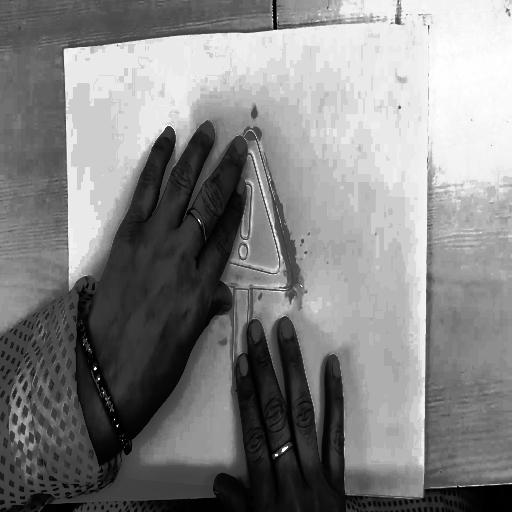bottom_left: (66, 465, 75, 479)
bottom_right: (420, 491, 426, 499)
signboard: (183, 110, 309, 417)
top_left: (61, 43, 69, 59)
top_right: (424, 15, 431, 32)
